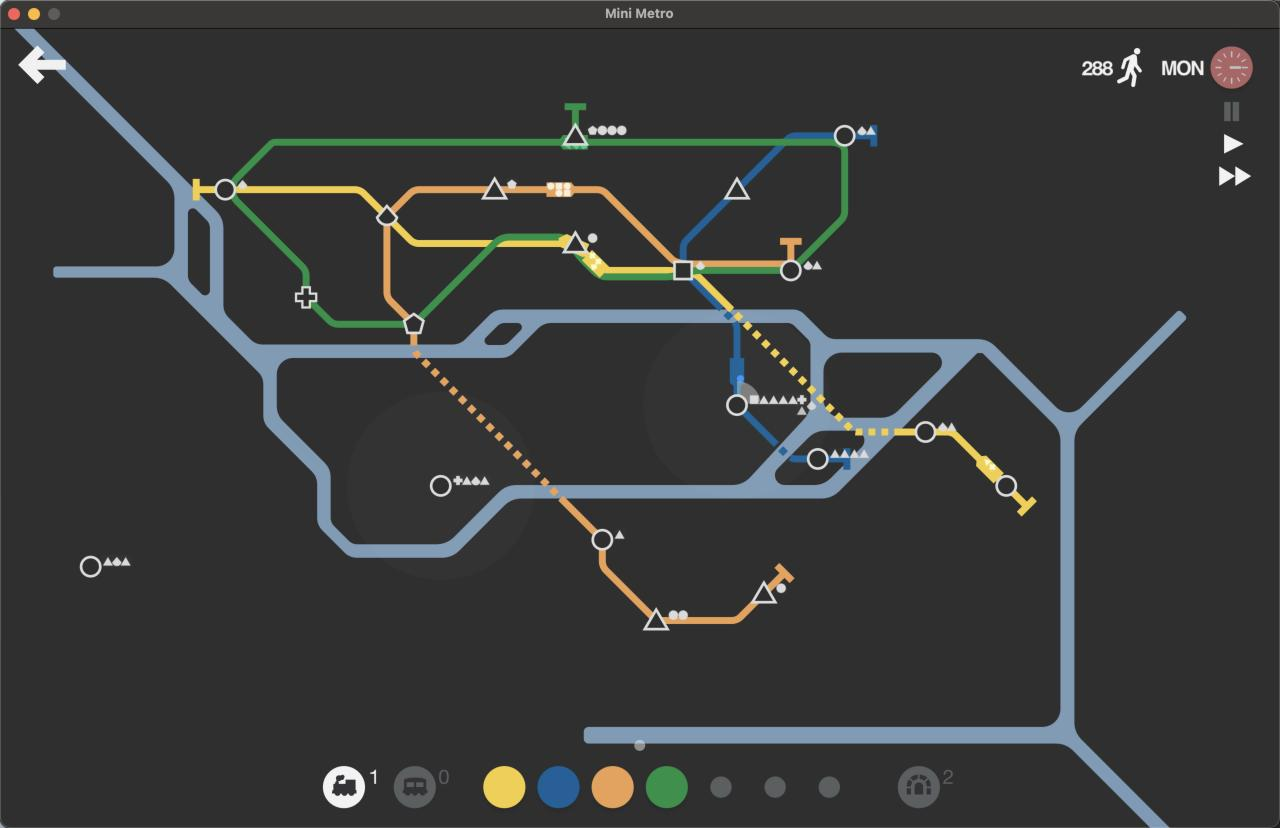CIRCLE: (429, 474, 453, 498), (725, 393, 749, 417), (590, 528, 615, 551), (779, 259, 802, 282), (807, 447, 830, 470), (995, 474, 1018, 497), (214, 178, 237, 200), (834, 124, 856, 147), (914, 421, 937, 443), (81, 557, 102, 578)
CROSS: (294, 285, 318, 308)
PENTAGON: (402, 313, 425, 337)
SQUARE: (673, 260, 694, 280)
TRIANGLE: (561, 229, 589, 255), (750, 579, 777, 605), (561, 124, 588, 150), (482, 175, 508, 201), (643, 607, 670, 632), (724, 176, 750, 200)
WEDGE: (375, 203, 399, 227)
